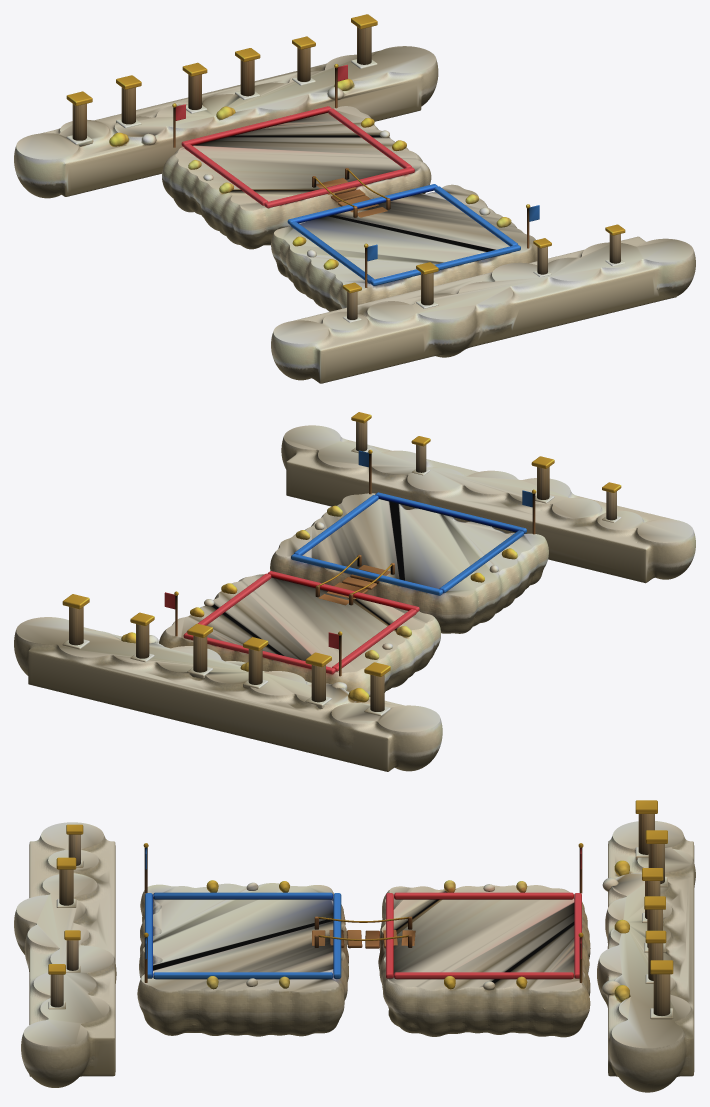
The model's file is olimpo.glb.
The picture shows the model from 3 angles, top to bottom: view 1: azimuth 30°, elevation 25°; view 2: azimuth 150°, elevation 25°; view 3: azimuth 270°, elevation 25°; orthographic projection. The views are drawn at different scales.
Visible parts, largest first — view 1: arena; view 2: arena; view 3: arena.
Boxes of the visible parts, left/top/right/bottom form: arena: left=14, top=14, right=695, bottom=383; arena: left=14, top=412, right=695, bottom=771; arena: left=14, top=800, right=695, bottom=1092.
Bounding box in the file's own units: 15.13 × 3.3 × 18.98.
